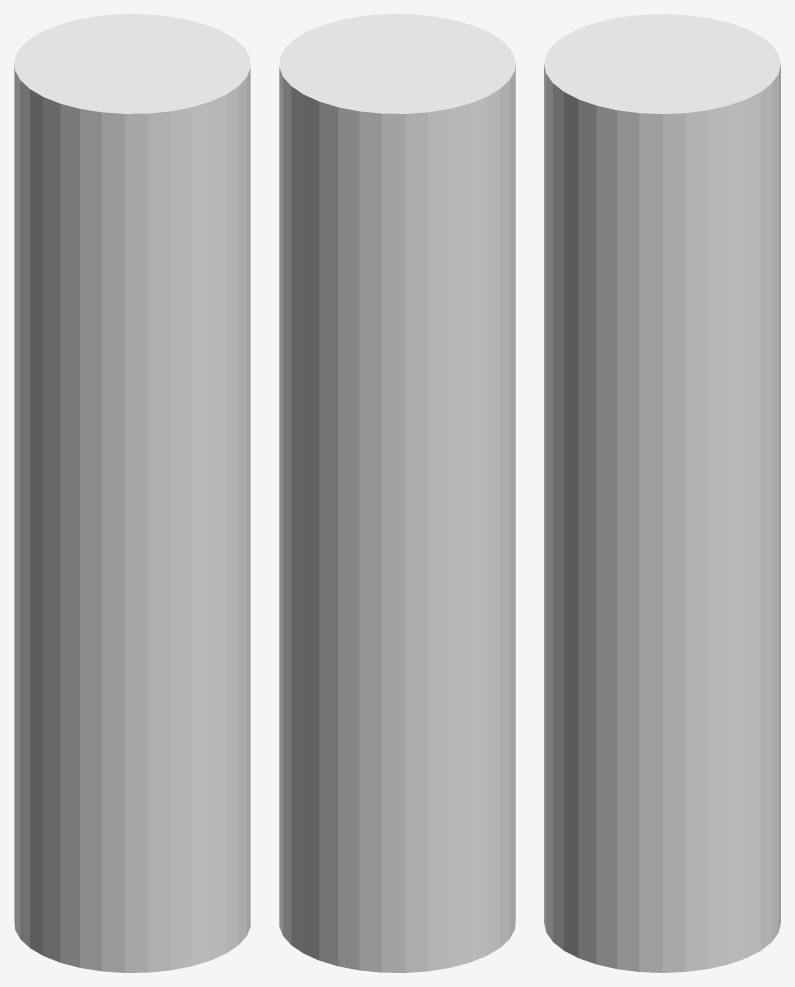
Rendered from Tower.obj.
The picture shows the model from 3 angles, left to right: view 1: azimuth 30°, elevation 25°; view 2: azimuth 150°, elevation 25°; view 3: azimuth 270°, elevation 25°; orthographic projection.
Parts seen in each view (by area): view 1: 円柱; view 2: 円柱; view 3: 円柱.
Part boxes in pixels (x1,y1,x2,y2): 円柱: [14, 14, 250, 972]; 円柱: [279, 14, 515, 972]; 円柱: [544, 14, 780, 972].
Size of the model in its own units: 10 by 40 by 10.
1 material, 1 textured.
